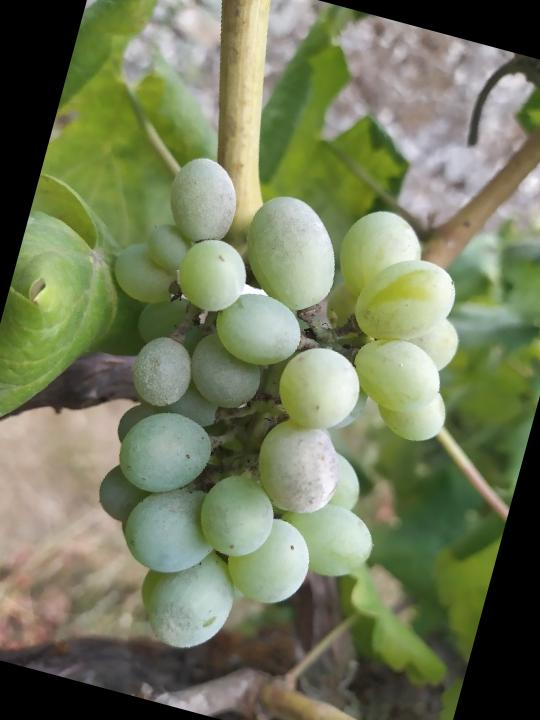grape: (20, 134, 501, 706)
